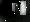person: (21, 2, 27, 16), (14, 5, 19, 16)
